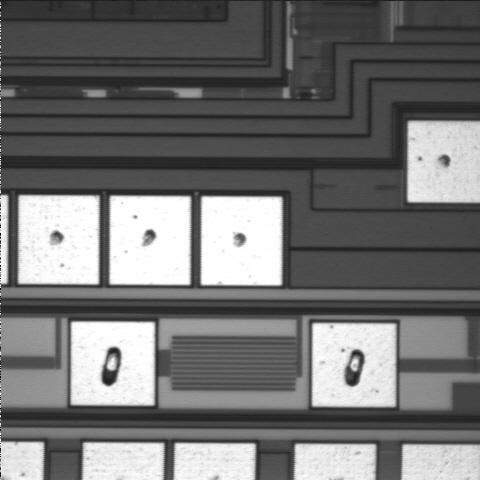pad: (109, 196, 191, 285), (18, 195, 99, 284), (201, 196, 282, 285), (312, 323, 396, 407), (71, 322, 155, 405)
